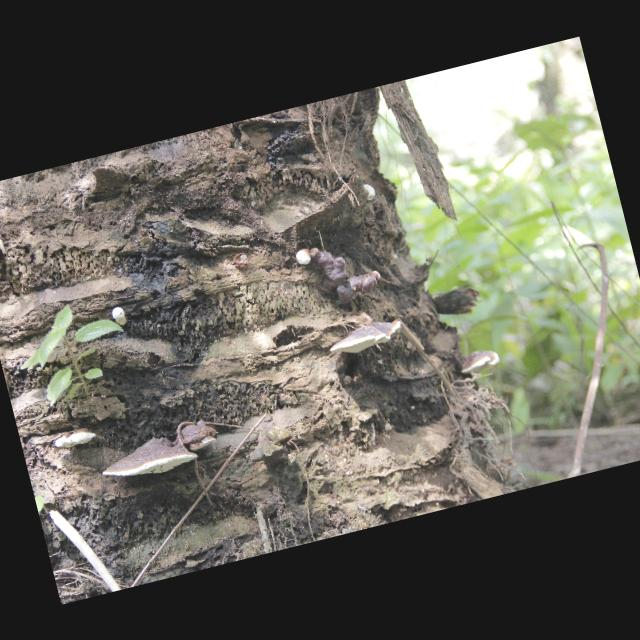ganoderma: (98, 429, 201, 488), (311, 236, 380, 311), (327, 317, 406, 361), (176, 417, 222, 455), (459, 347, 503, 377), (54, 425, 99, 452)
primordium: (112, 306, 129, 329), (295, 247, 313, 267), (363, 182, 378, 202), (372, 269, 383, 283)
